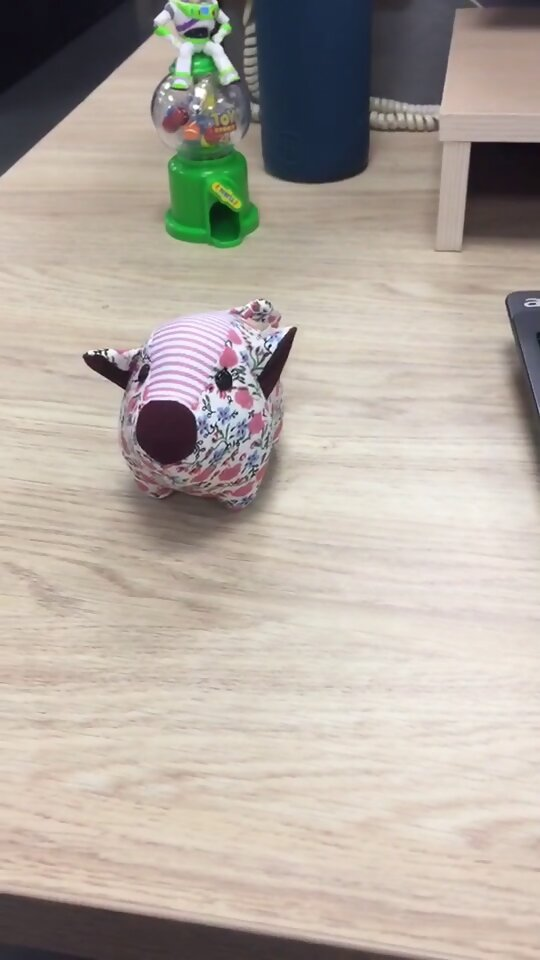pig: (80, 296, 302, 516)
